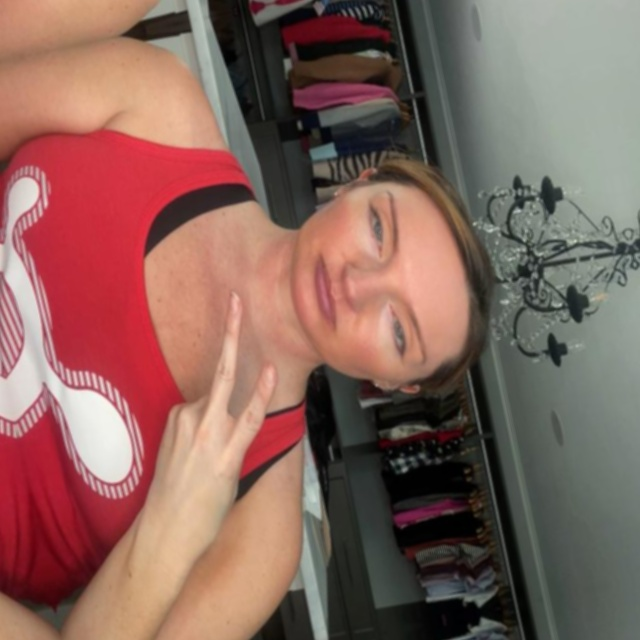Scissors: (109, 282, 309, 549)
